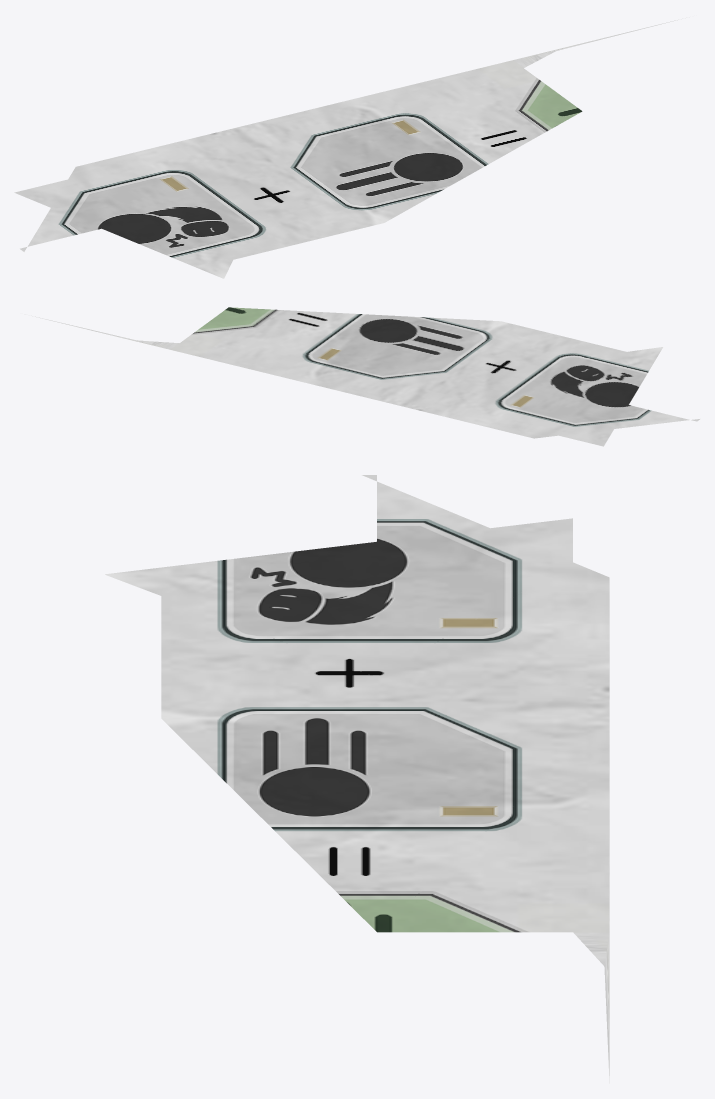
File: Blueprint3.fbx
3 renders of one model, top to bottom at view 1: azimuth 30°, elevation 25°; view 2: azimuth 150°, elevation 25°; view 3: azimuth 270°, elevation 25°, orthographic. The views are drawn at different scales.
Parts seen in each view (by area): view 1: 平面.002; view 2: 平面.002; view 3: 平面.002.
Boxes of the visible parts, <box> form: 平面.002: <box>14,17,689,278</box>; 平面.002: <box>24,307,699,446</box>; 平面.002: <box>105,475,609,1083</box>.
Size of the model in its own units: 200 by 0 by 69.86.
Materials: 1 (1 with a texture image).
